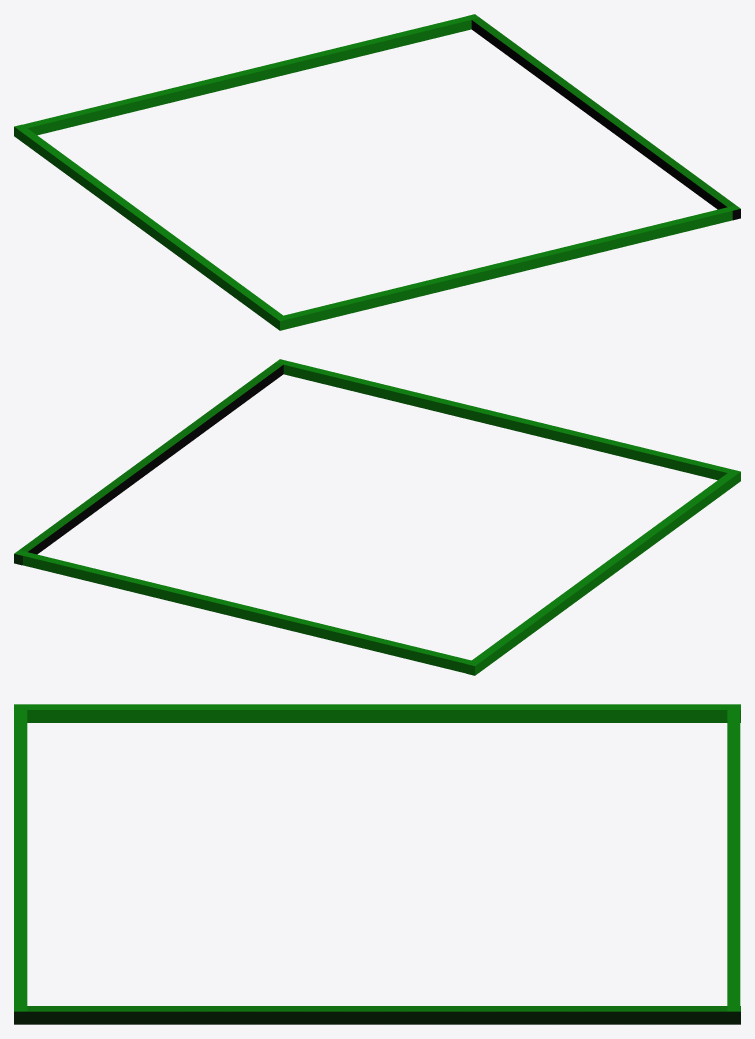
Rendered from square.obj.
3 views of the same model, one above another, from view 1: azimuth 30°, elevation 25°; view 2: azimuth 150°, elevation 25°; view 3: azimuth 270°, elevation 25° (orthographic). The views are drawn at different scales.
Visible parts, largest first — view 1: Box02, Box03, Box01, Box04; view 2: Box03, Box02, Box01, Box04; view 3: Box04, Box01, Box02, Box03.
Boxes of the visible parts, x1,y1,x2,y2 form: Box02: [275, 205, 740, 328]; Box03: [14, 14, 479, 135]; Box01: [14, 124, 288, 330]; Box04: [468, 14, 740, 220]; Box03: [15, 550, 479, 673]; Box02: [275, 359, 740, 480]; Box01: [466, 472, 740, 675]; Box04: [14, 359, 283, 565]; Box04: [14, 1006, 740, 1024]; Box01: [27, 704, 740, 722]; Box02: [14, 704, 27, 1011]; Box03: [727, 704, 740, 1011].
Bounding box in the file's own units: 301 × 6.01 × 301.
2 materials, 1 textured.
